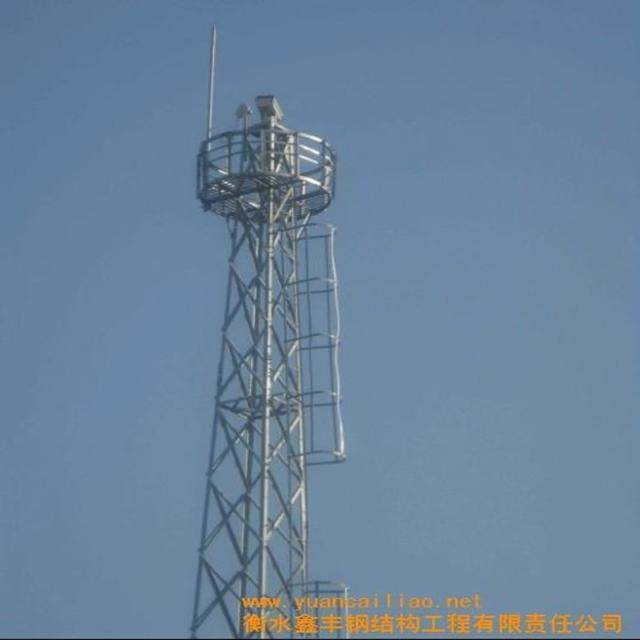non-critical vegetation: (175, 104, 359, 633)
